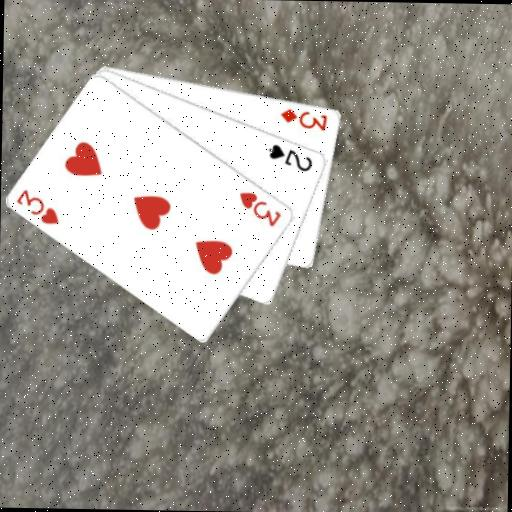2S: (265, 141, 314, 173)
3D: (278, 105, 330, 132)
3H: (236, 188, 284, 229), (14, 186, 62, 227)
